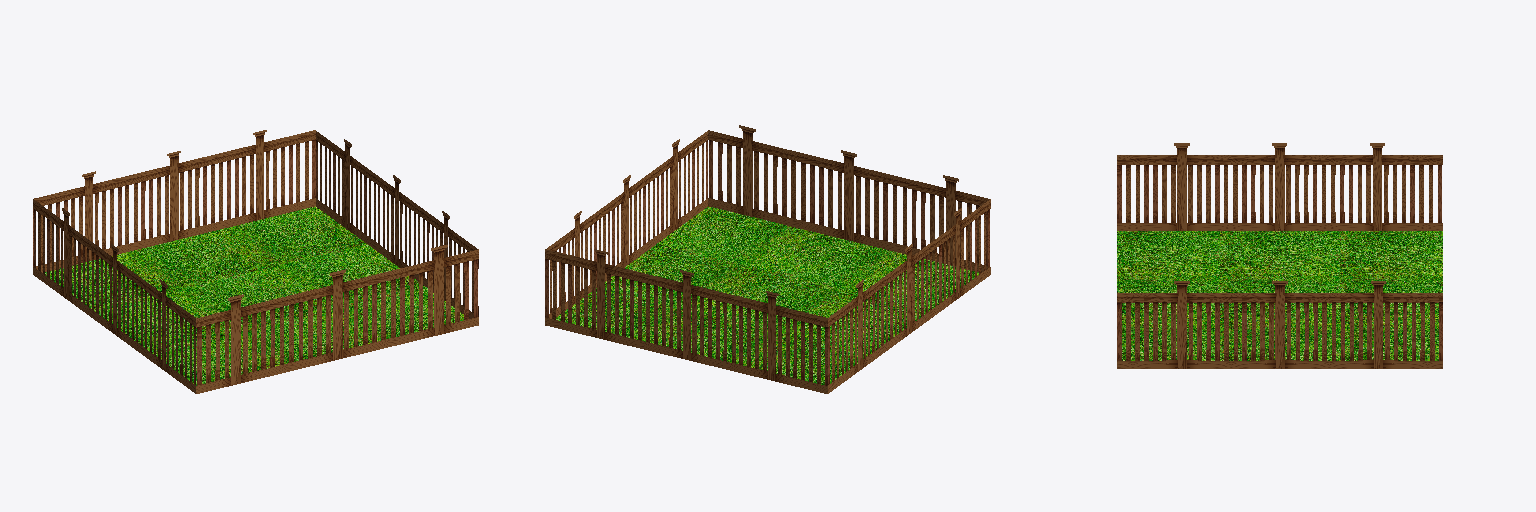
3 renders of one model, left to right at view 1: azimuth 30°, elevation 25°; view 2: azimuth 150°, elevation 25°; view 3: azimuth 270°, elevation 25°, orthographic.
Visible parts, largest first — view 1: Plane001, paredDos, paredUno, paredTres, paredCuatro; view 2: Plane001, paredUno, paredDos, paredTres, paredCuatro; view 3: Plane001, paredCuatro, paredTres.
Part boxes in pixels (x1,y1,x2,y2): Plane001: (45, 206, 463, 385); paredDos: (196, 245, 478, 393); paredUno: (33, 130, 315, 272); paredTres: (33, 199, 195, 393); paredCuatro: (316, 131, 478, 318); Plane001: (556, 206, 978, 384); paredUno: (545, 249, 827, 393); paredDos: (708, 125, 989, 272); paredTres: (828, 199, 990, 393); paredCuatro: (547, 131, 707, 318); Plane001: (1117, 231, 1442, 360); paredCuatro: (1117, 281, 1442, 368); paredTres: (1117, 143, 1442, 230).
Size of the model in its own units: 100 by 30 by 100.
Materials: 2 (2 with a texture image).